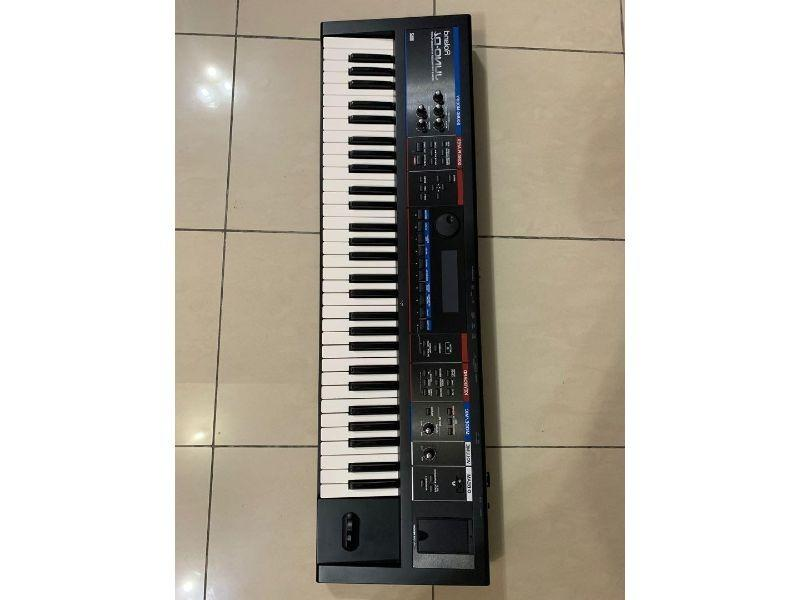synthesizer: (305, 16, 491, 589)
